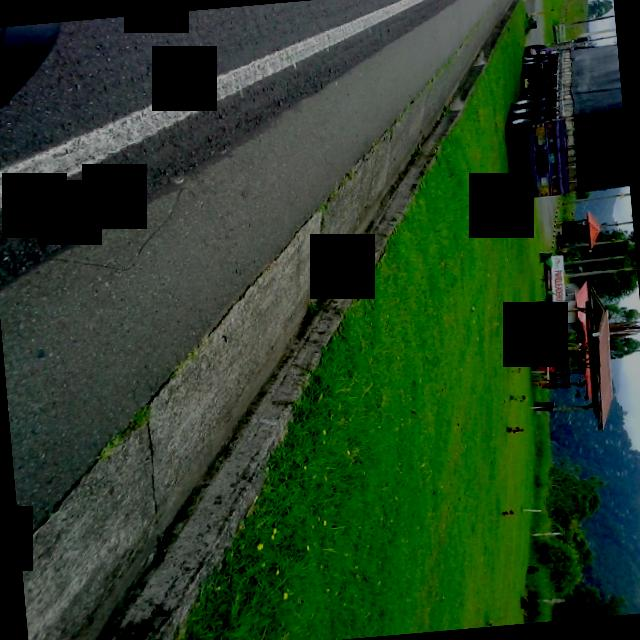DITCH: (0, 0, 629, 640), (0, 0, 622, 640), (0, 0, 580, 640)
